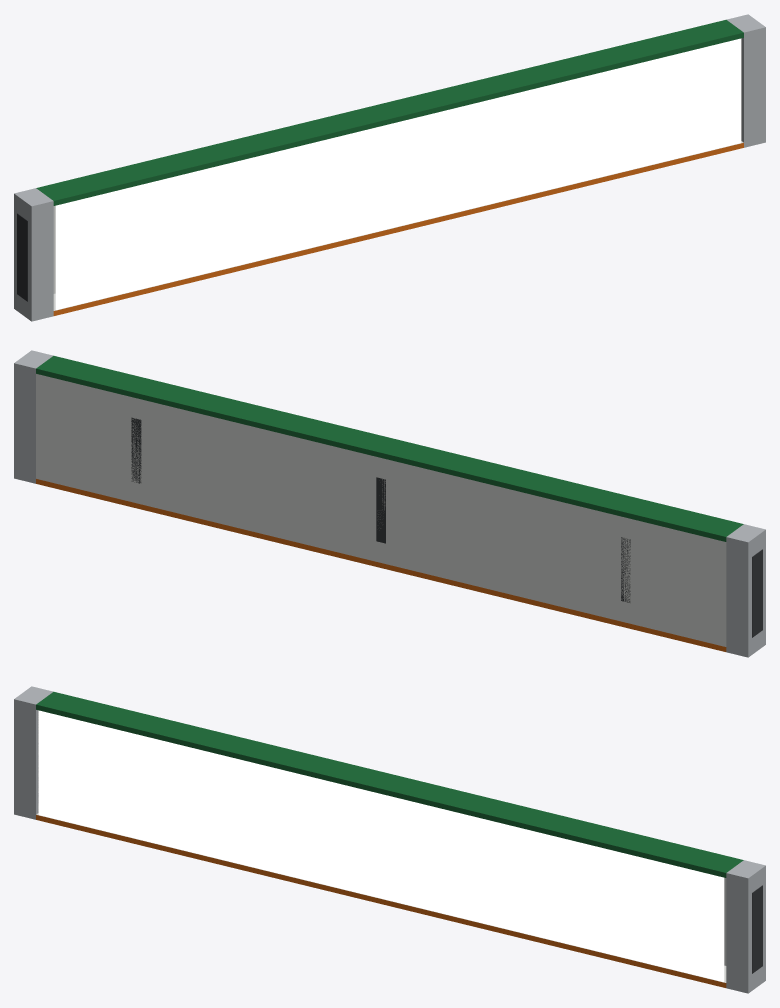
The model's file is conbini_sign.glb.
3 views of the same model, one above another, from view 1: azimuth 30°, elevation 25°; view 2: azimuth 150°, elevation 25°; view 3: azimuth 330°, elevation 25° (orthographic).
Visible parts, largest first — view 1: sign_face, sign_box; view 2: sign_box; view 3: sign_face, sign_box.
Boxes of the visible parts, left/top/right/bottom form: sign_face: left=55, top=38, right=741, bottom=309; sign_box: left=14, top=14, right=765, bottom=321; sign_box: left=14, top=350, right=765, bottom=657; sign_face: left=38, top=710, right=724, bottom=981; sign_box: left=14, top=686, right=765, bottom=993.
Bounding box in the file's own units: 6.01 × 0.9 × 0.25.
